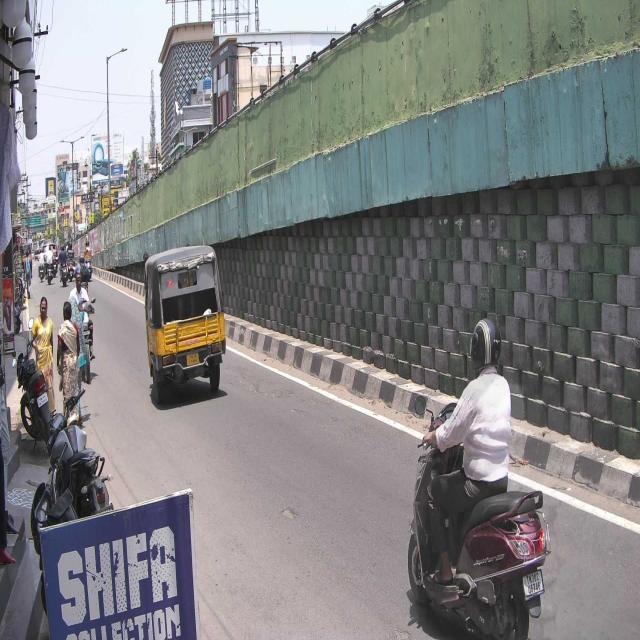single_rider: (404, 317, 552, 640)
